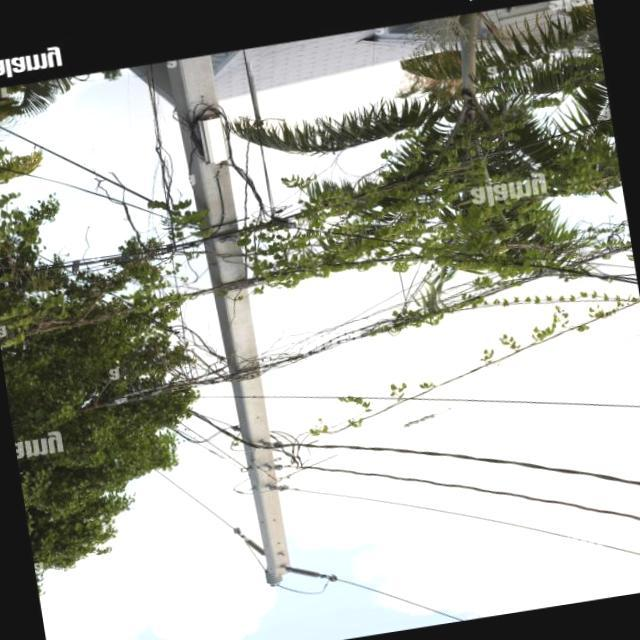light_pole: (166, 197, 338, 596), (295, 235, 635, 372)
